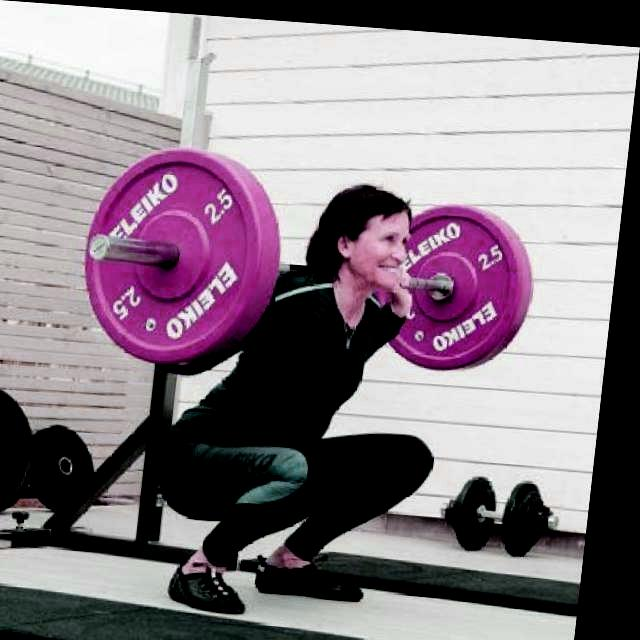barbell: (81, 140, 276, 370)
